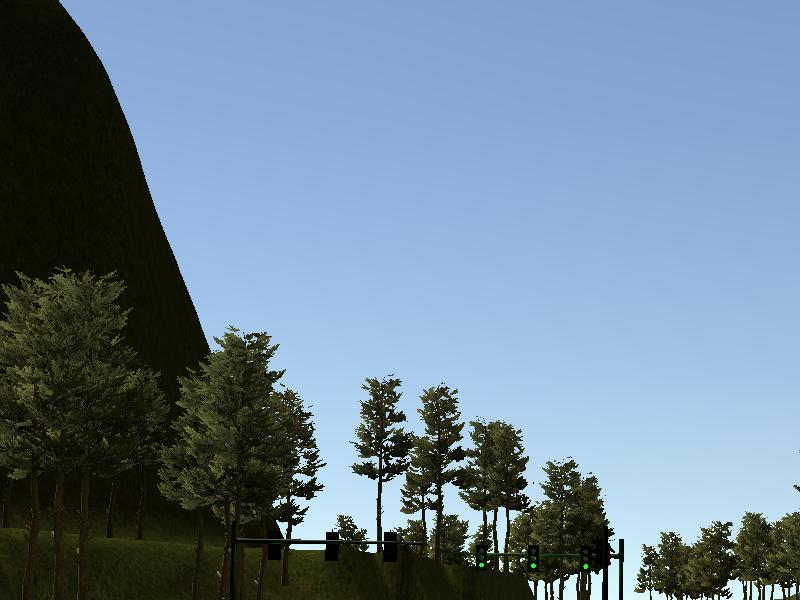Green: (527, 545, 541, 572), (475, 545, 488, 569), (580, 547, 591, 572)
